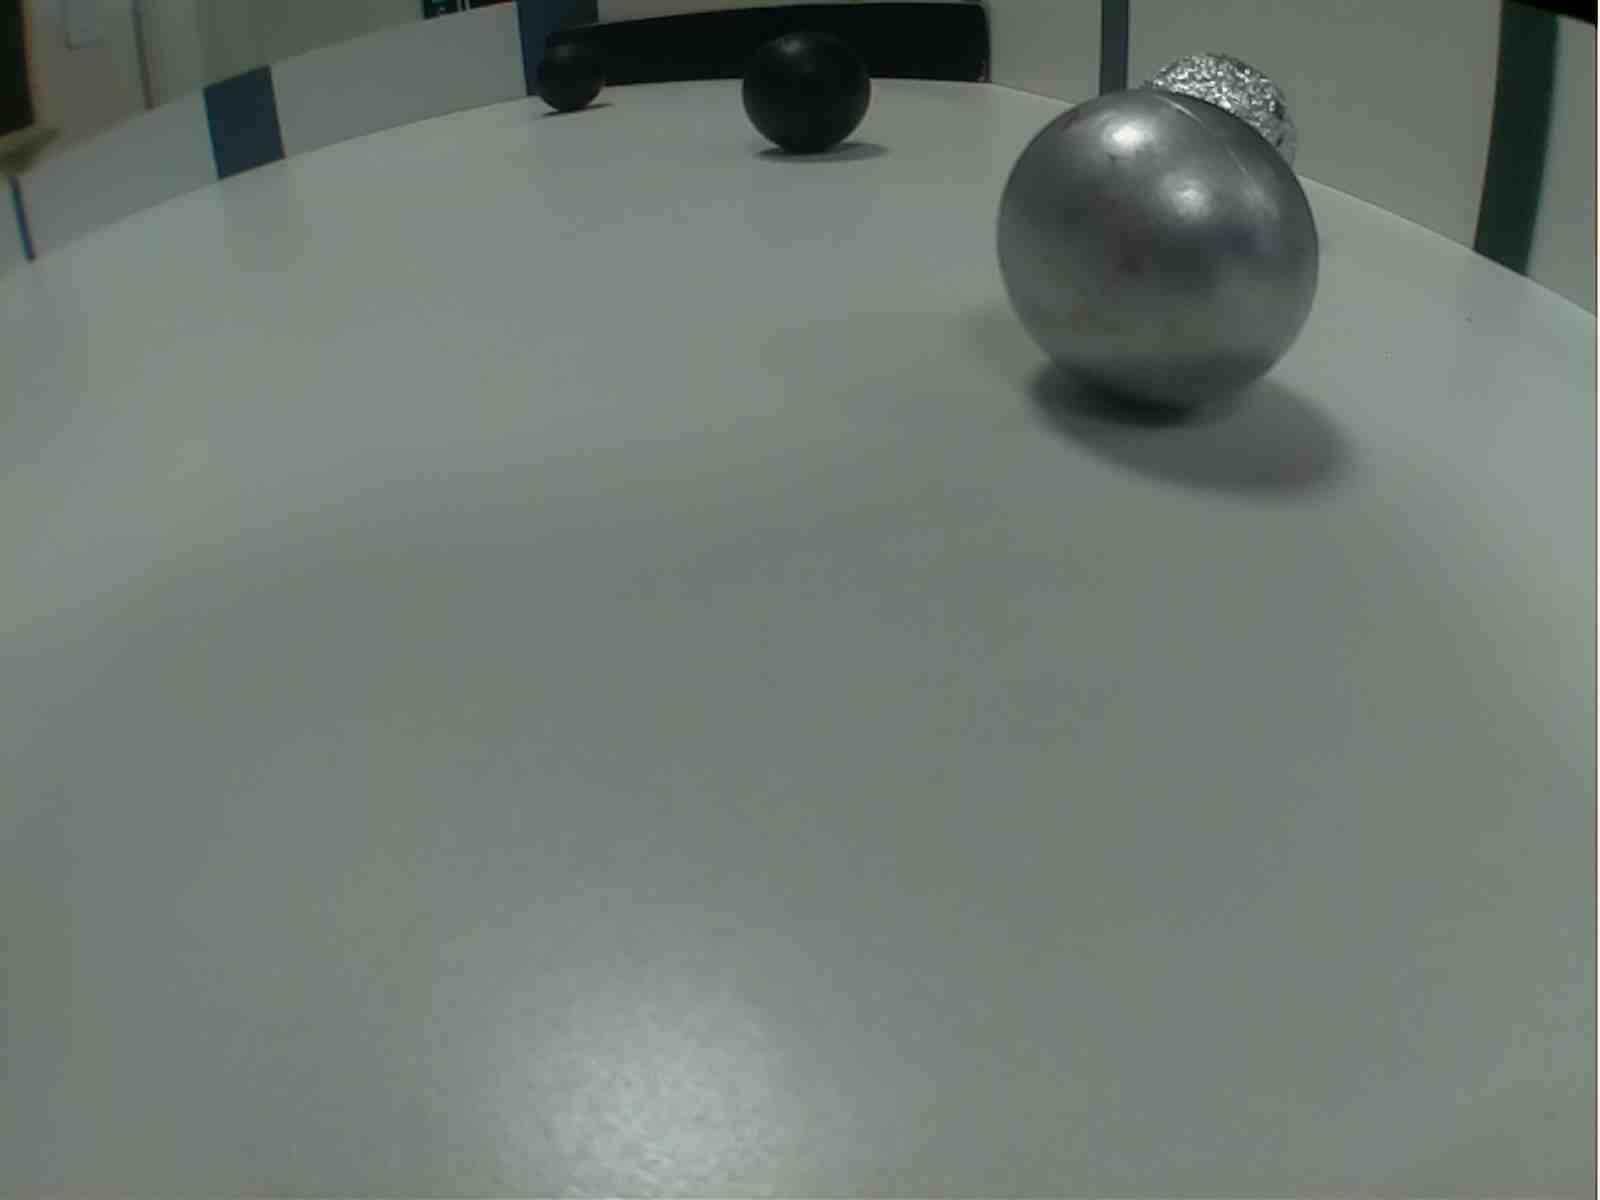bianca: (995, 84, 1320, 418), (1141, 52, 1296, 187)
nera: (734, 29, 876, 163), (528, 39, 611, 118)
